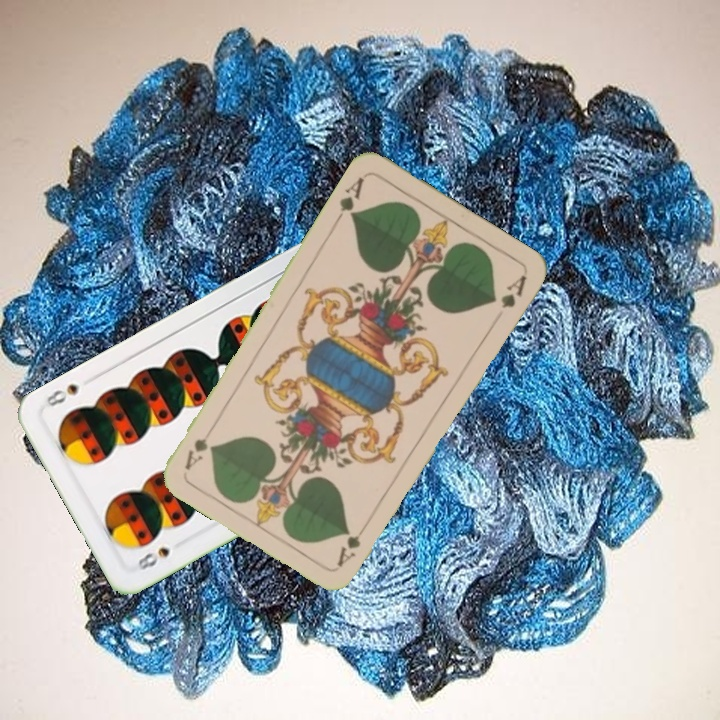GA: (332, 516, 373, 569), (331, 173, 367, 225)
S8: (134, 542, 173, 573)
